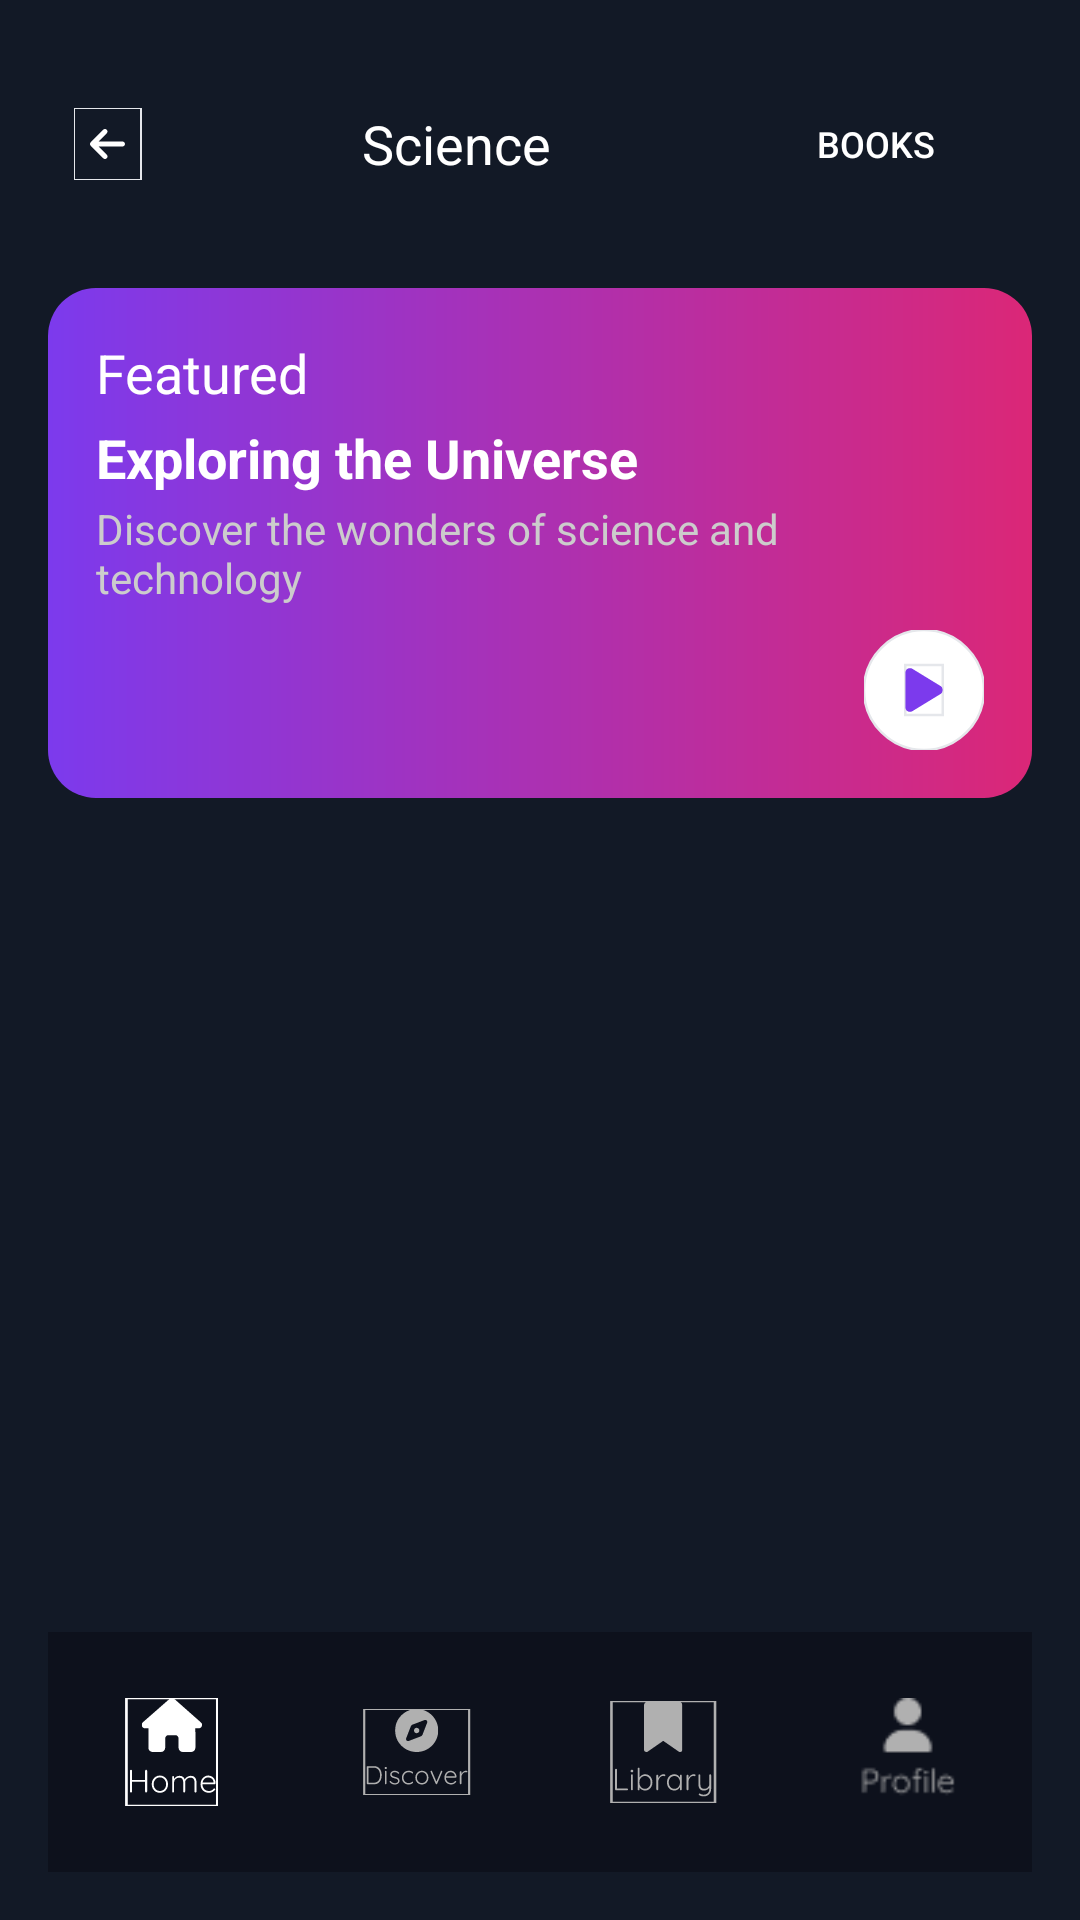

Where to tap for icons on this 1080px×1920px app screen, as (x=x, y=y):
backbutt: (x=108, y=144)
play: (x=924, y=690)
